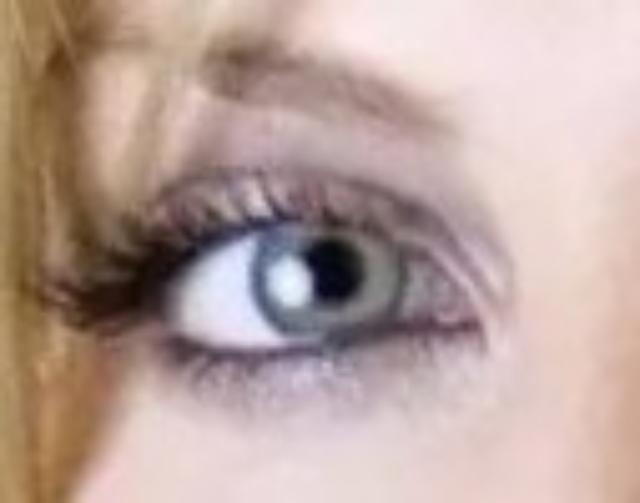eye: (248, 201, 406, 346)
